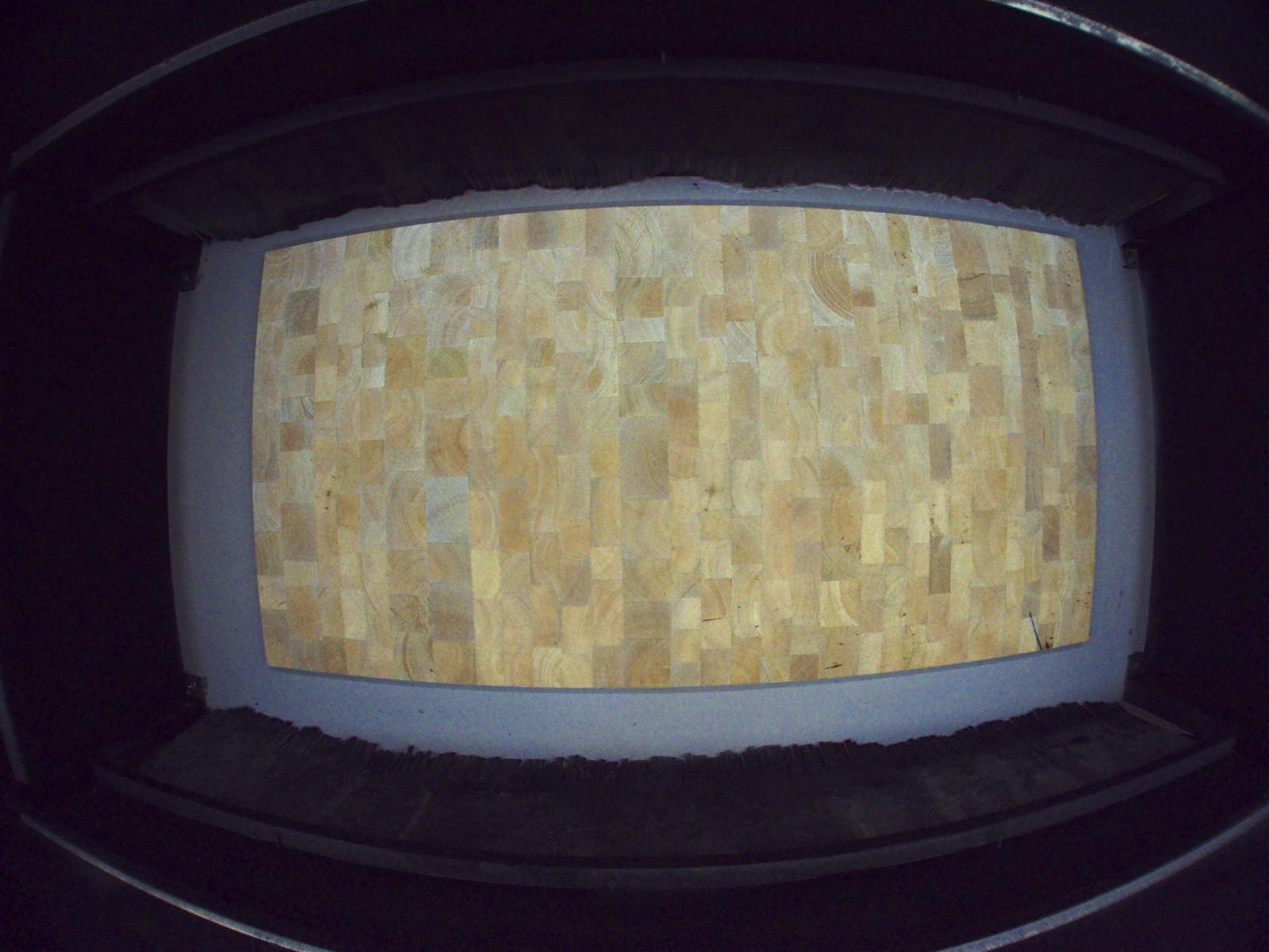nudillo: (1039, 638, 1055, 649)
